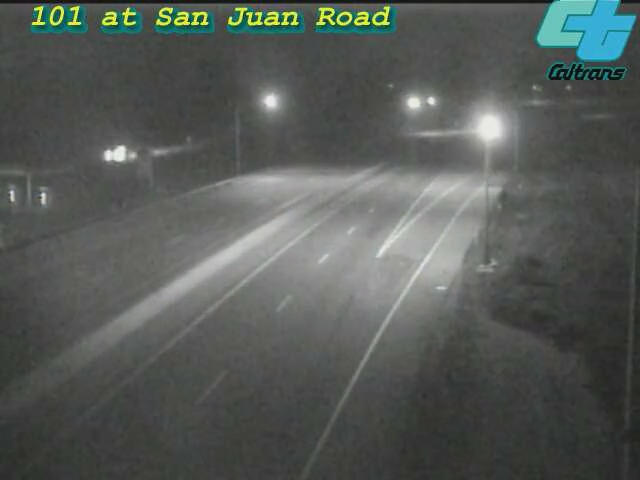vehicle: (462, 104, 512, 154)
